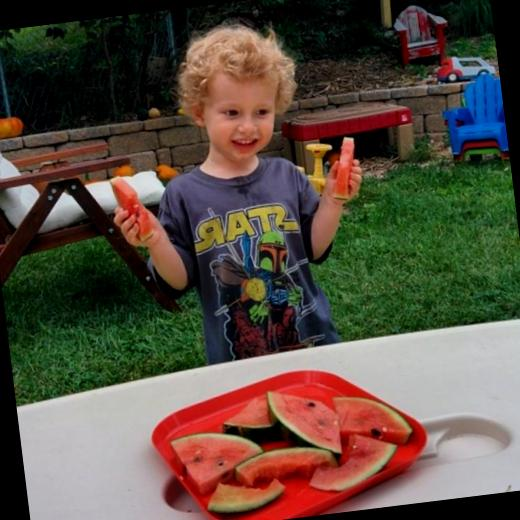Cherry: (165, 376, 423, 520), (109, 171, 156, 243), (326, 136, 362, 200)
